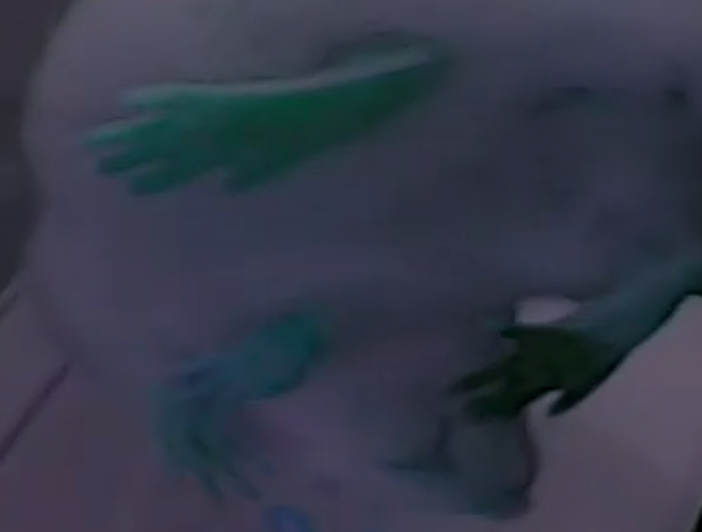paw: (62, 26, 471, 217), (135, 304, 344, 511), (430, 306, 631, 438)
